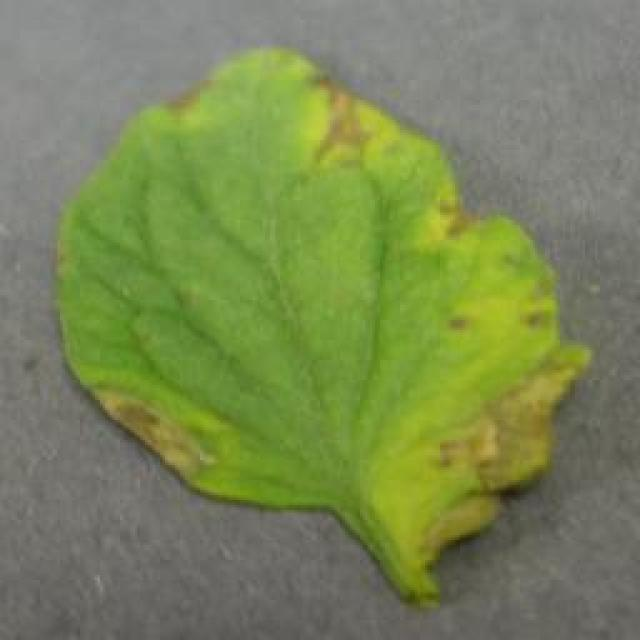Tomato yellow virus leaf: (55, 45, 595, 565)
